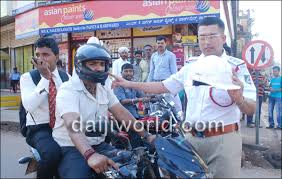helmet: (73, 44, 119, 85)
